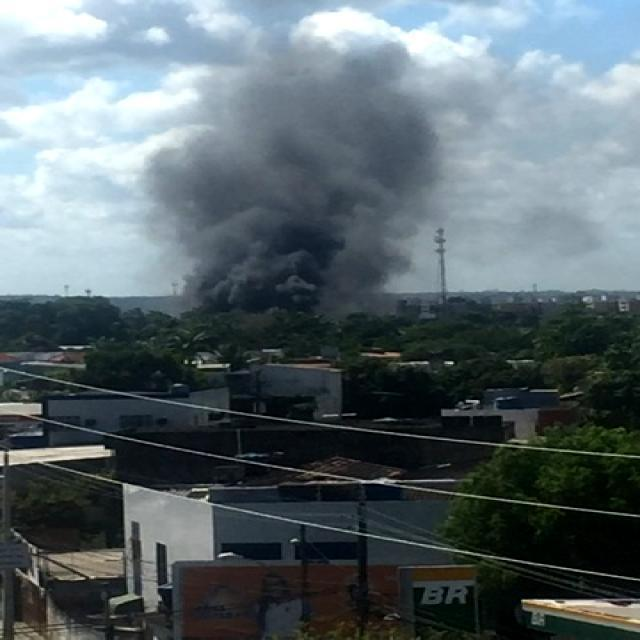Smoke: (108, 44, 465, 320)
